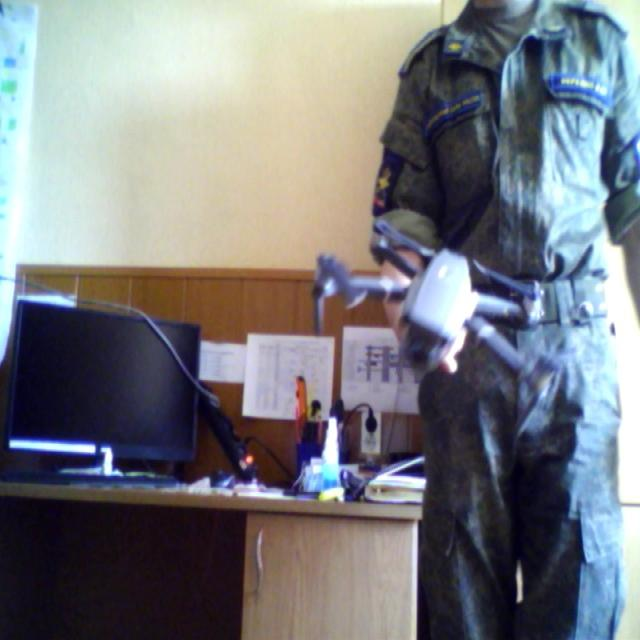drone: (311, 193, 568, 435)
